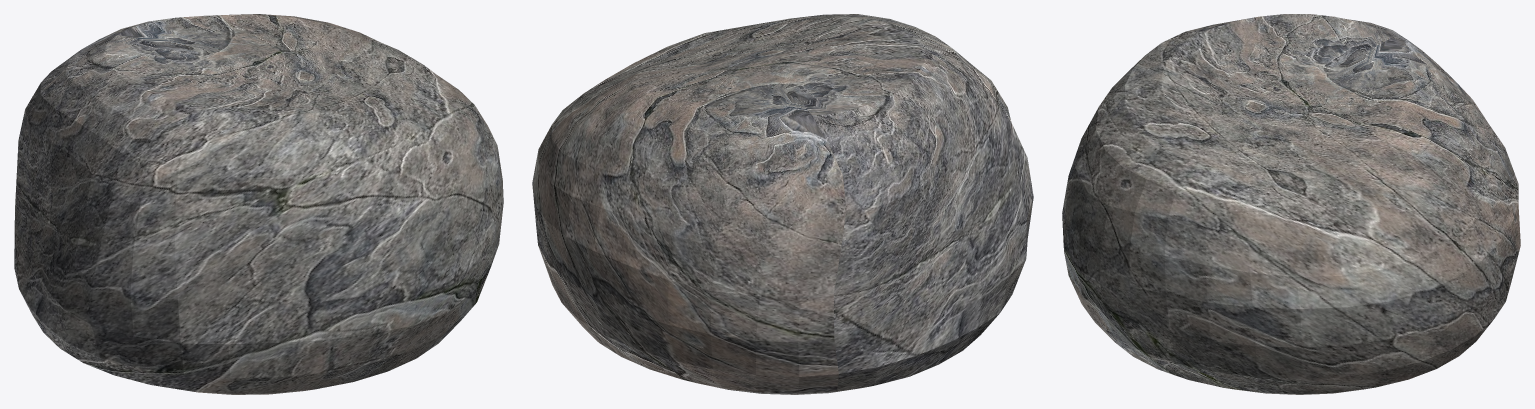
File: Rock.obj
The picture shows the model from 3 angles, left to right: view 1: azimuth 30°, elevation 25°; view 2: azimuth 150°, elevation 25°; view 3: azimuth 270°, elevation 25°; orthographic projection. The views are drawn at different scales.
Visible parts, largest first — view 1: Sphere; view 2: Sphere; view 3: Sphere.
Part boxes in pixels (x1=…): Sphere: x1=14, y1=14, x2=503, y2=394; Sphere: x1=532, y1=14, x2=1033, y2=394; Sphere: x1=1062, y1=14, x2=1520, y2=394.
Size of the model in its own units: 3.21 by 1.94 by 3.14.
